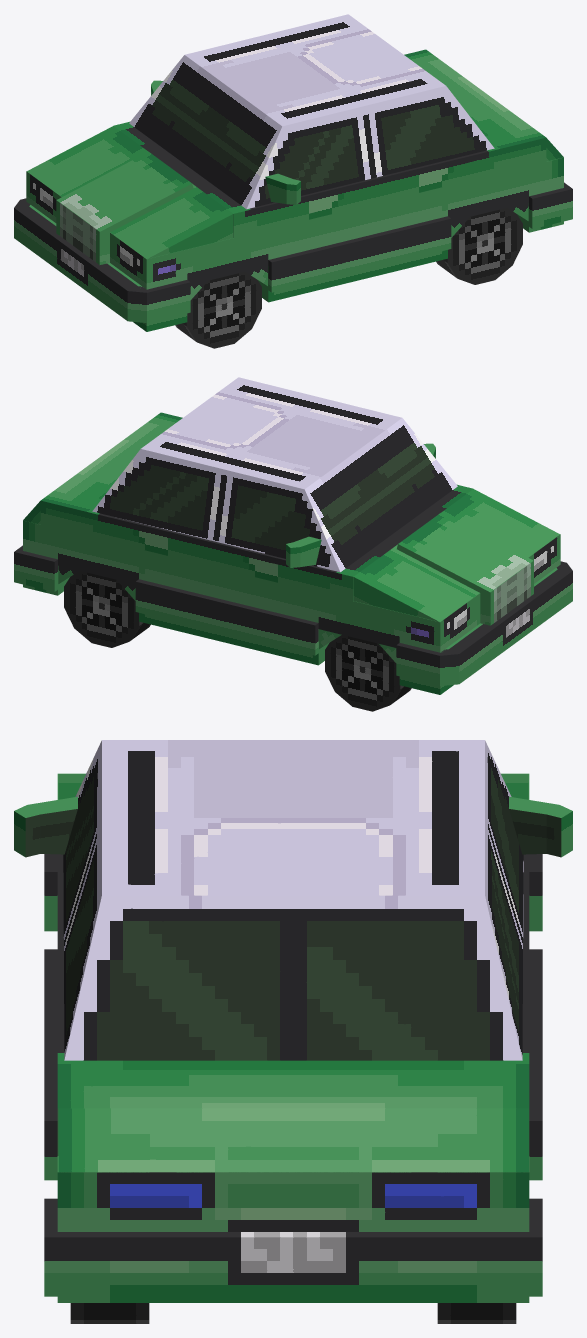
Rendered from car3_1.gltf.
3 views of the same model, one above another, from view 1: azimuth 30°, elevation 25°; view 2: azimuth 150°, elevation 25°; view 3: azimuth 270°, elevation 25° (orthographic). The views are drawn at different scales.
Visible parts, largest first — view 1: cube (×14), cuboid (×2), cylinder (×2); view 2: cube (×14), cuboid (×2), cylinder (×2); view 3: cuboid (×3), cube (×7), cylinder (×2).
Part boxes in pixels (<box>): cube (×14): <box>14,49,572,331</box>; cuboid (×2): <box>129,14,494,209</box>; cylinder (×2): <box>175,208,522,348</box>; cube (×14): <box>14,412,572,694</box>; cuboid (×2): <box>92,377,457,572</box>; cylinder (×2): <box>64,571,411,711</box>; cuboid (×3): <box>14,740,572,1060</box>; cube (×7): <box>44,774,542,1302</box>; cylinder (×2): <box>70,1303,516,1323</box>.
Size of the model in its own units: 6.06 by 2.62 by 3.41.
Materials: 1 (1 with a texture image).
